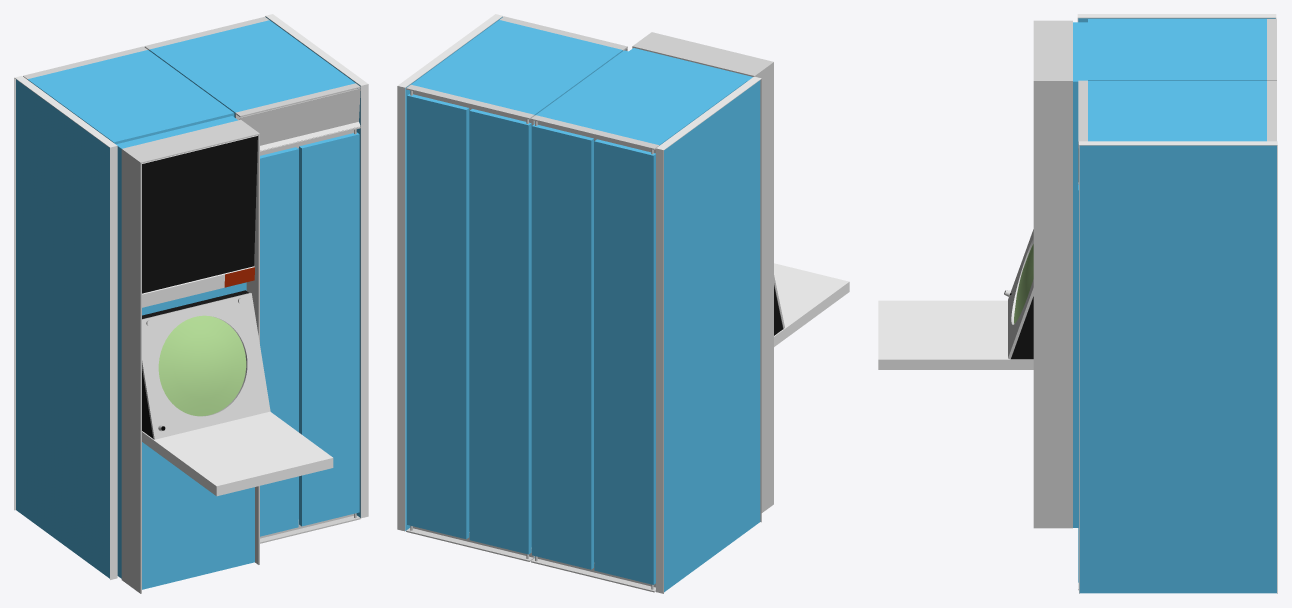
The model's file is pdp6_340.FBX.
3 renders of one model, left to right at view 1: azimuth 30°, elevation 25°; view 2: azimuth 150°, elevation 25°; view 3: azimuth 270°, elevation 25°, orthographic. The views are drawn at different scales.
Visible parts, largest first — view 1: Box080, door_r014, Box070, frame002, door_l014, Box071, Box078, Box077, table_middle001, Box073, Sphere001, C-Ext004 (+10 smaller); view 2: Box080, door_l013, door_r013, door_r012, door_l012, Box078, Box077, frame002, C-Ext004, C-Ext003, table_middle001, plate_top018 (+6 smaller); view 3: Box079, frame002, Box077, Box078, table_middle001, extrus001, C-Ext003, Box073, C-Ext004, Box072, Sphere001, plate_top020 (+2 smaller).
Part boxes in pixels (x1=…): Box080: x1=16, y1=79, x2=109, y2=578; door_r014: x1=299, y1=132, x2=359, y2=526; Box070: x1=142, y1=135, x2=257, y2=307; frame002: x1=121, y1=120, x2=259, y2=593; door_l014: x1=260, y1=147, x2=298, y2=536; Box071: x1=142, y1=442, x2=254, y2=589; Box078: x1=149, y1=20, x2=355, y2=519; Box077: x1=27, y1=50, x2=234, y2=144; table_middle001: x1=142, y1=411, x2=333, y2=496; Box073: x1=142, y1=293, x2=270, y2=439; Sphere001: x1=158, y1=315, x2=246, y2=416; C-Ext004: x1=14, y1=76, x2=117, y2=579; Box080: x1=664, y1=80, x2=760, y2=592; door_l013: x1=407, y1=94, x2=469, y2=539; door_r013: x1=469, y1=109, x2=531, y2=554; door_r012: x1=594, y1=139, x2=655, y2=584; door_l012: x1=532, y1=124, x2=593, y2=569; Box078: x1=411, y1=20, x2=622, y2=557; Box077: x1=536, y1=50, x2=747, y2=562; frame002: x1=632, y1=32, x2=773, y2=512; C-Ext004: x1=656, y1=76, x2=761, y2=593; C-Ext003: x1=397, y1=14, x2=503, y2=531; table_middle001: x1=774, y1=263, x2=849, y2=346; plate_top018: x1=406, y1=84, x2=534, y2=125; Box079: x1=1079, y1=145, x2=1276, y2=593; frame002: x1=1033, y1=20, x2=1072, y2=528; Box077: x1=1088, y1=19, x2=1266, y2=80; Box078: x1=1088, y1=80, x2=1266, y2=141; table_middle001: x1=878, y1=300, x2=1033, y2=369; extrus001: x1=1073, y1=22, x2=1087, y2=527; C-Ext003: x1=1079, y1=141, x2=1277, y2=593; Box073: x1=1008, y1=229, x2=1033, y2=359; C-Ext004: x1=1077, y1=14, x2=1276, y2=21; Box072: x1=1011, y1=296, x2=1033, y2=359; Sphere001: x1=1014, y1=244, x2=1033, y2=323; plate_top020: x1=1078, y1=80, x2=1087, y2=142.
Size of the model in its own units: 108 by 138 by 172.
